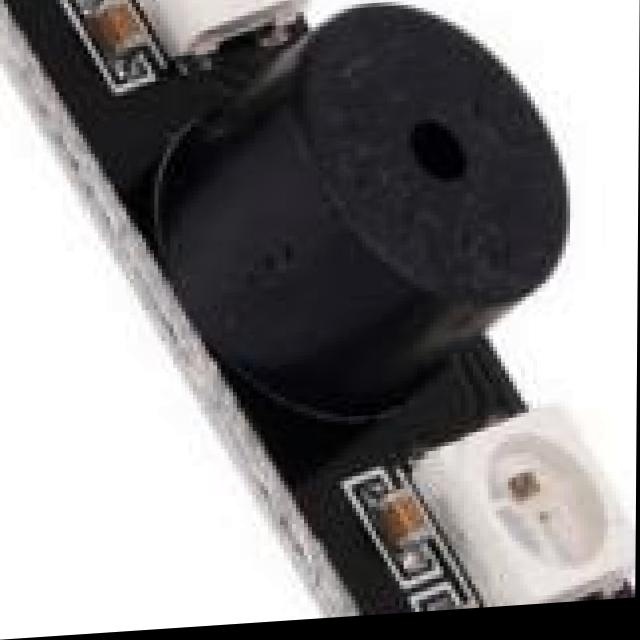LED: (444, 426, 637, 597), (116, 0, 312, 22)
buzzer: (138, 0, 576, 395)
capacitor: (80, 0, 168, 74), (371, 496, 449, 558), (416, 604, 524, 618)
